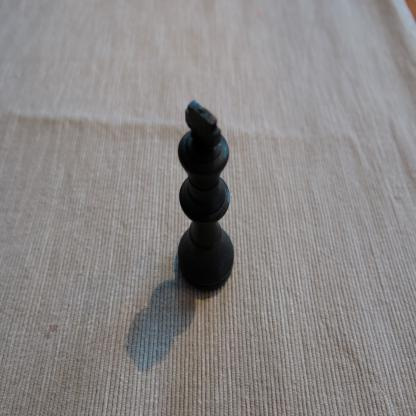black-king: (176, 99, 235, 293)
